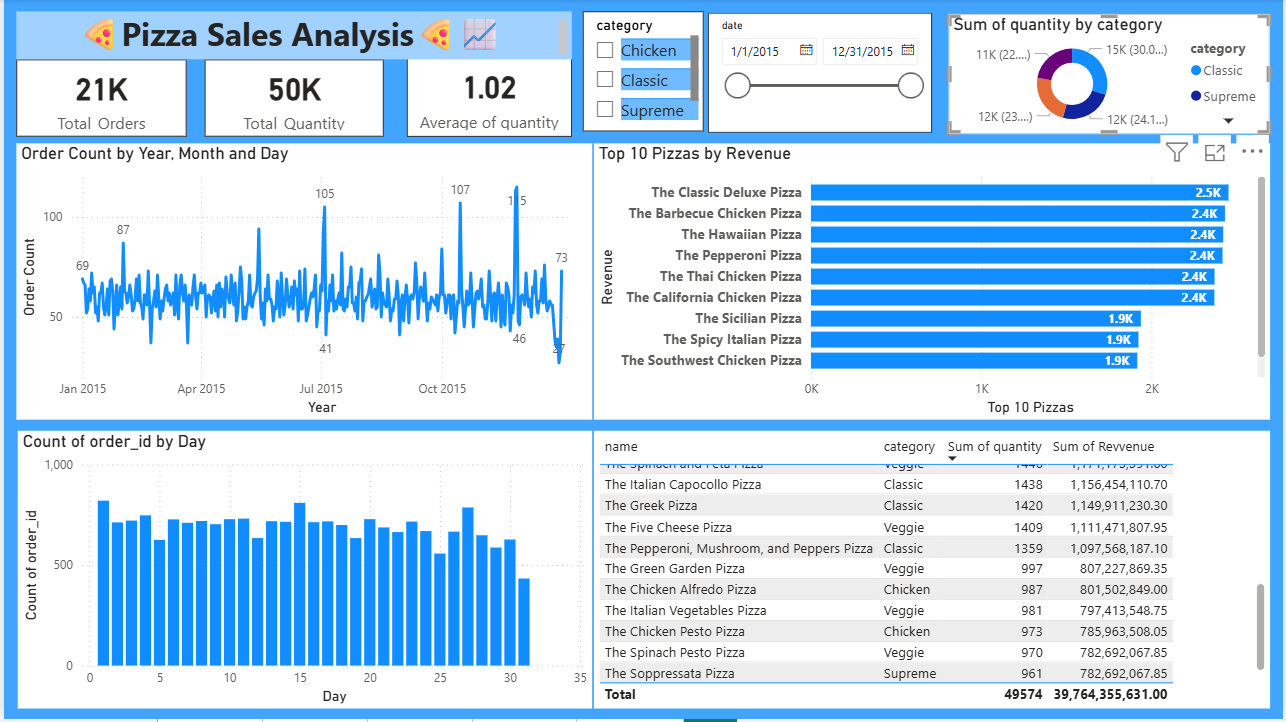

What the dashboard file says about the page in this screenshot:
{"tool":"powerbi","page":{"name":"Page 6","canvas":[1280,720],"ordinal":4},"visuals":[{"type":"card","fields":{"Values":["Mesurees.Total_Orders"]},"box":[12.4,60.5,170.5,77],"z":0},{"type":"card","fields":{"Values":["order_details.Total_Quantity"]},"box":[200.8,60.5,178.8,77],"z":1000},{"type":"card","fields":{"Values":["Avg(order_details.quantity)"]},"box":[403,57.8,165,79.8],"z":2000},{"type":"lineChart","fields":{"Category":["orders.date.Variation.Date Hierarchy.Year","orders.date.Variation.Date Hierarchy.Month","orders.date.Variation.Date Hierarchy.Day"],"Y":["CountNonNull(orders.order_id)"]},"box":[12.4,144.4,576.2,276.4],"z":2001},{"type":"clusteredBarChart","fields":{"Category":["pizza_types.name"],"Y":["Sum(order_details.quantity)"]},"box":[590,144.4,676.6,276.4],"z":2002},{"type":"clusteredColumnChart","fields":{"Category":["orders.date.Variation.Date Hierarchy.Day"],"Y":["CountNonNull(orders.order_id)"]},"box":[13.8,431.8,574.9,277.8],"z":2003},{"type":"tableEx","fields":{"Values":["pizza_types.name","pizza_types.category","Sum(order_details.quantity)","Sum(order_details.Revvenue)"]},"box":[590,431.8,676.6,277.8],"z":2004},{"type":"slicer","fields":{"Values":["pizza_types.category"]},"box":[579,12.4,121,119.6],"z":2005},{"type":"slicer","fields":{"Values":["orders.date"]},"box":[704.1,13.8,224.2,119.6],"z":2006},{"type":"donutChart","fields":{"Category":["pizza_types.category"],"Y":["Sum(order_details.quantity)"]},"box":[944.8,15.1,321.8,119.6],"z":2007},{"type":"textbox","box":[12.4,12.4,555.6,48.1],"z":2008}]}

Visuals, with their boxes in screenshot pixels (x1, y1, x2, y2), scaled from the page's 1280x720 canvas onto the 1286x722 screenshot:
card - Mesurees.Total_Orders: (12, 61, 184, 138)
card - order_details.Total_Quantity: (202, 61, 381, 138)
card - Avg(order_details.quantity): (405, 58, 571, 138)
lineChart - orders.date.Variation.Date Hierarchy.Year x orders.date.Variation.Date Hierarchy.Month: (12, 145, 591, 422)
clusteredBarChart - pizza_types.name x Sum(order_details.quantity): (593, 145, 1273, 422)
clusteredColumnChart - orders.date.Variation.Date Hierarchy.Day x CountNonNull(orders.order_id): (14, 433, 591, 712)
tableEx - pizza_types.name x pizza_types.category: (593, 433, 1273, 712)
slicer - pizza_types.category: (582, 12, 703, 132)
slicer - orders.date: (707, 14, 933, 134)
donutChart - pizza_types.category x Sum(order_details.quantity): (949, 15, 1273, 135)
textbox: (12, 12, 571, 61)
